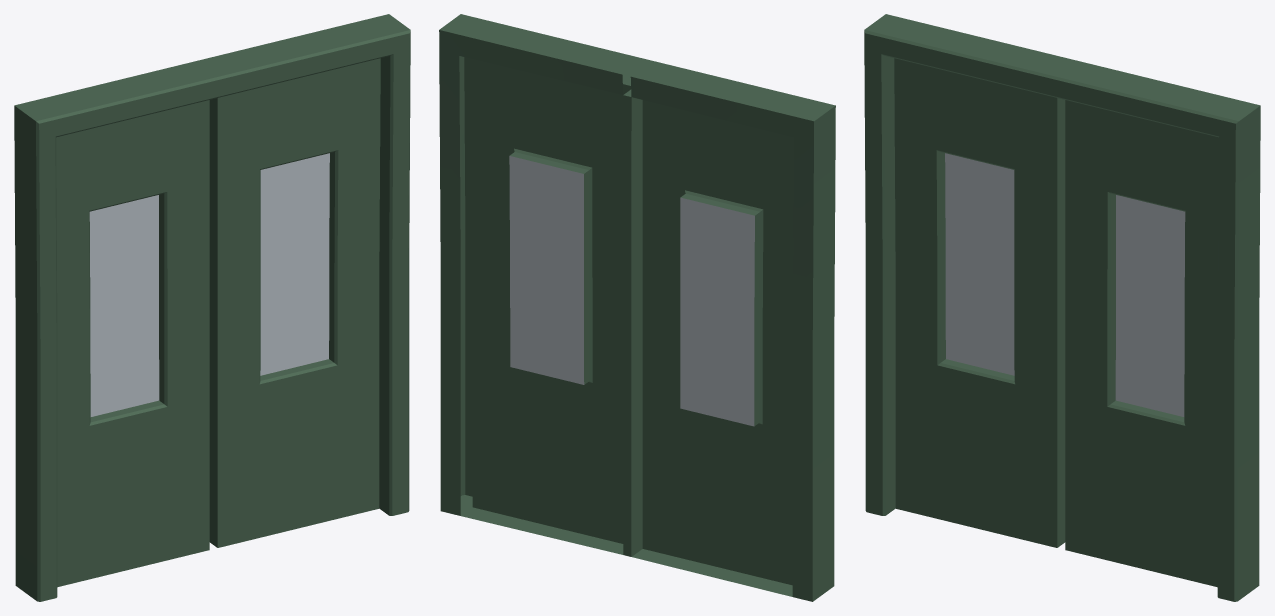
The model's file is fbx_oldbuilding_door_g.fbx.
The picture shows the model from 3 angles, left to right: view 1: azimuth 30°, elevation 25°; view 2: azimuth 150°, elevation 25°; view 3: azimuth 330°, elevation 25°; orthographic projection.
Visible parts, largest first — view 1: fbx_oldbuilding_door_g; view 2: fbx_oldbuilding_door_g; view 3: fbx_oldbuilding_door_g.
Boxes of the visible parts, box(x1,y1,x2,y2) form: fbx_oldbuilding_door_g: box(14, 14, 410, 601); fbx_oldbuilding_door_g: box(439, 14, 835, 601); fbx_oldbuilding_door_g: box(864, 14, 1260, 601).
Bounding box in the file's own units: 1.19 × 1.46 × 0.1257.
Materials: 2 (1 with a texture image).
